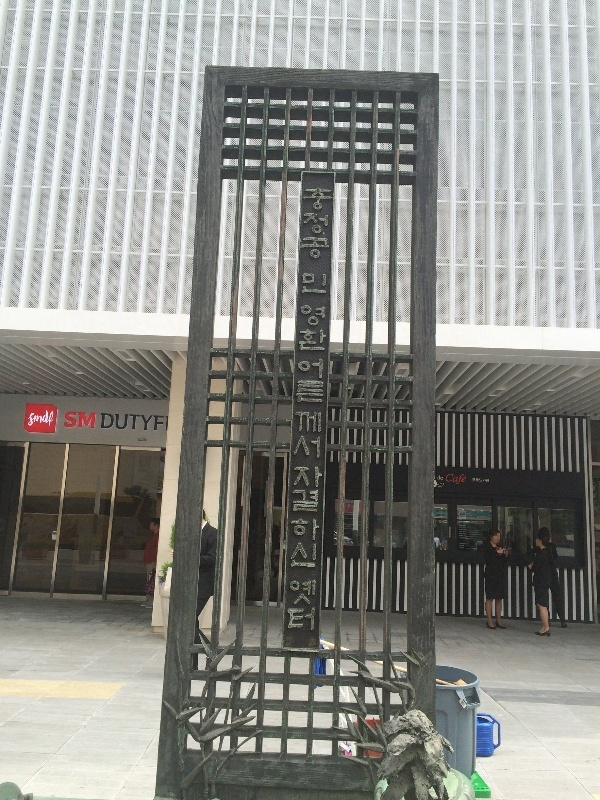text: (305, 268, 320, 636), (321, 268, 331, 636), (305, 187, 320, 262), (301, 268, 304, 636), (321, 187, 333, 262), (113, 411, 128, 435), (129, 411, 144, 435), (145, 411, 160, 435), (81, 411, 97, 433), (33, 407, 48, 430), (65, 411, 80, 433), (100, 411, 112, 435), (165, 413, 176, 433), (449, 473, 464, 485), (161, 411, 167, 435), (49, 407, 55, 430), (29, 407, 32, 430), (437, 475, 448, 481), (481, 477, 490, 483), (472, 477, 480, 483), (445, 473, 448, 485), (465, 473, 467, 485)
